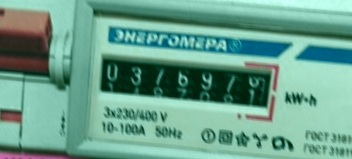0: (104, 60, 119, 81)
1: (245, 86, 257, 105)
3: (128, 63, 143, 84)
6: (175, 64, 190, 86)
7: (151, 63, 166, 85), (223, 70, 236, 93)
9: (199, 68, 212, 90)
screen: (89, 44, 284, 121)
